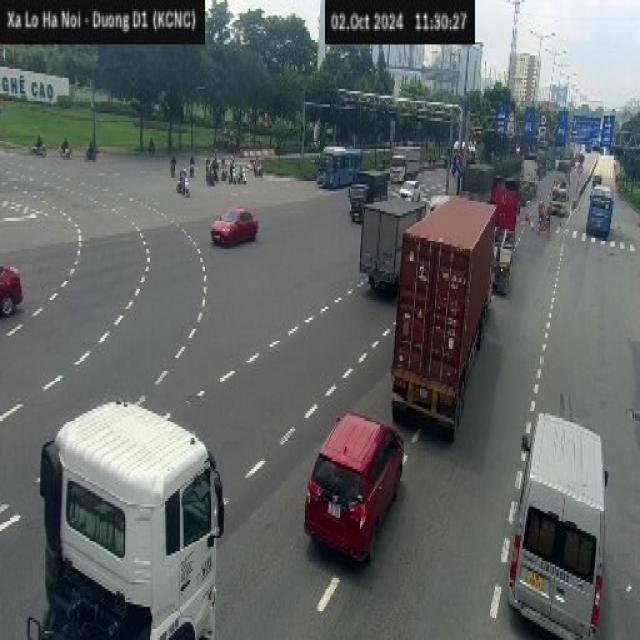bus: (38, 396, 224, 638), (316, 144, 362, 189)
car: (507, 411, 608, 638), (304, 409, 404, 564), (210, 206, 258, 246), (0, 264, 21, 316)
container-truck: (390, 194, 498, 442)
truck: (358, 188, 433, 309)
